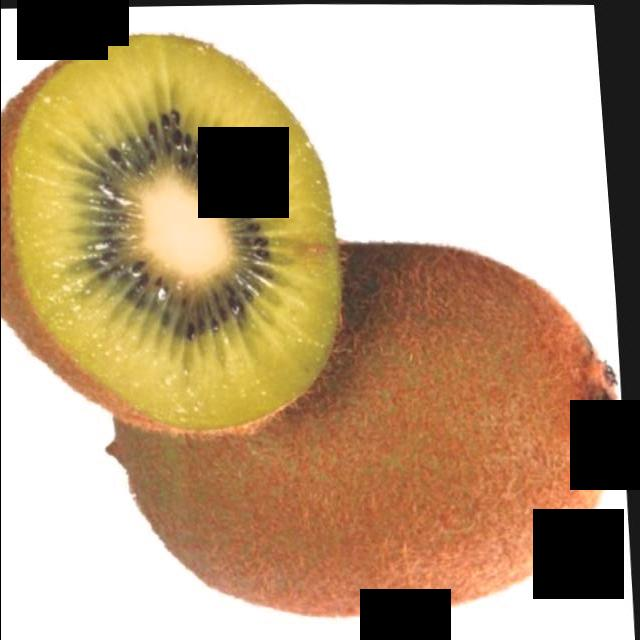kiwi: (94, 236, 640, 636)
